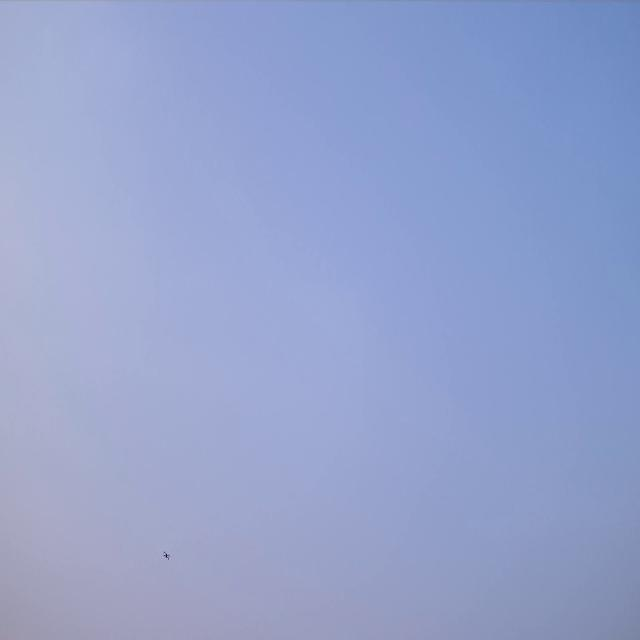UAV: (163, 551, 170, 560)
